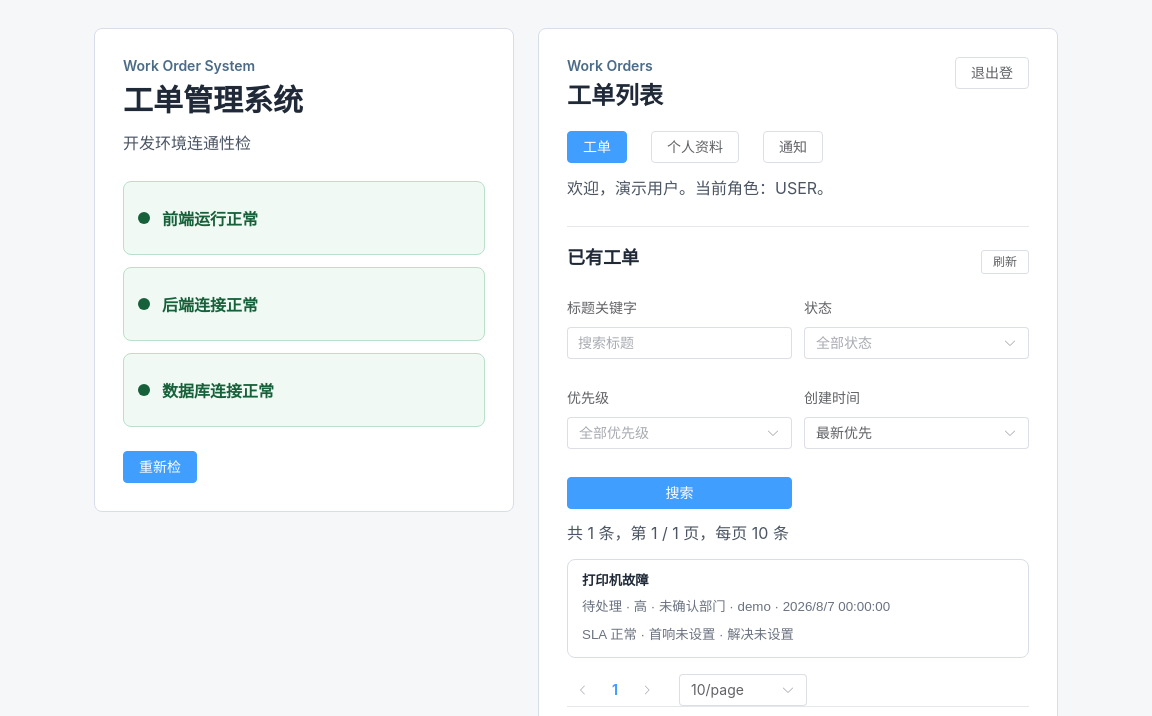
Test: App › cancels a pending work order through the dedicated endpoint
The image size is (1152, 716).
Click the button with class "work-order-item": (798, 608) [567, 559, 1029, 658]
(page scrolled)
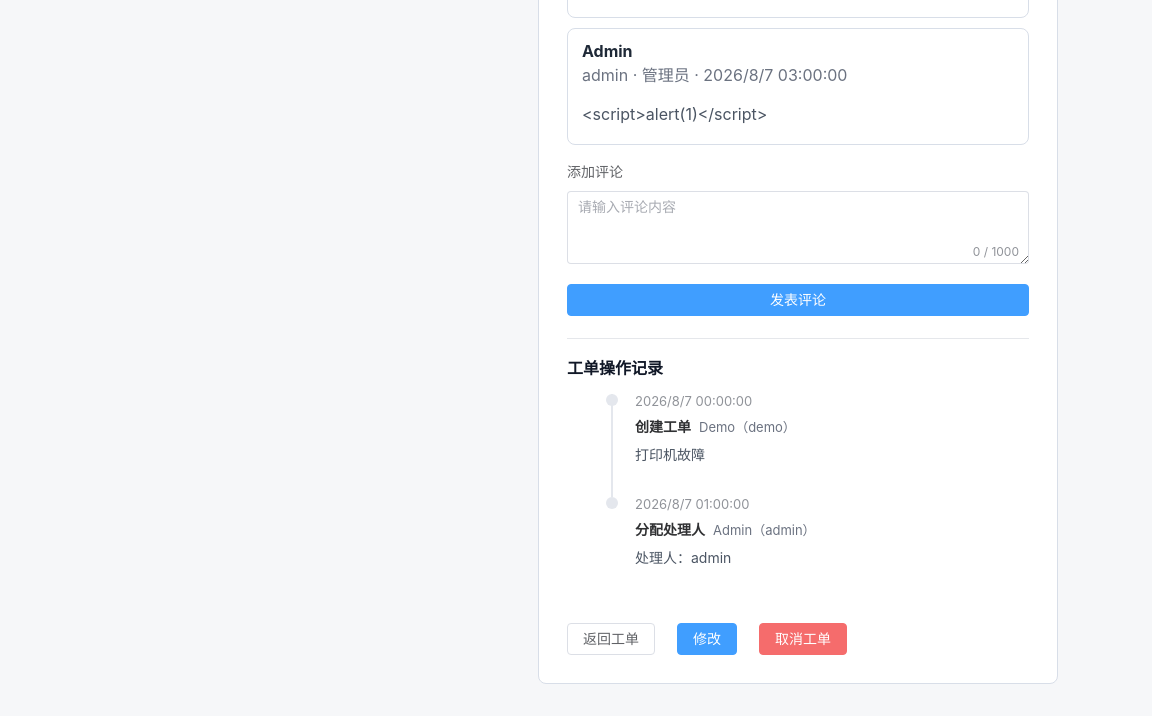
Click the button "取消工单": (803, 638) [759, 622, 847, 654]
(page scrolled)
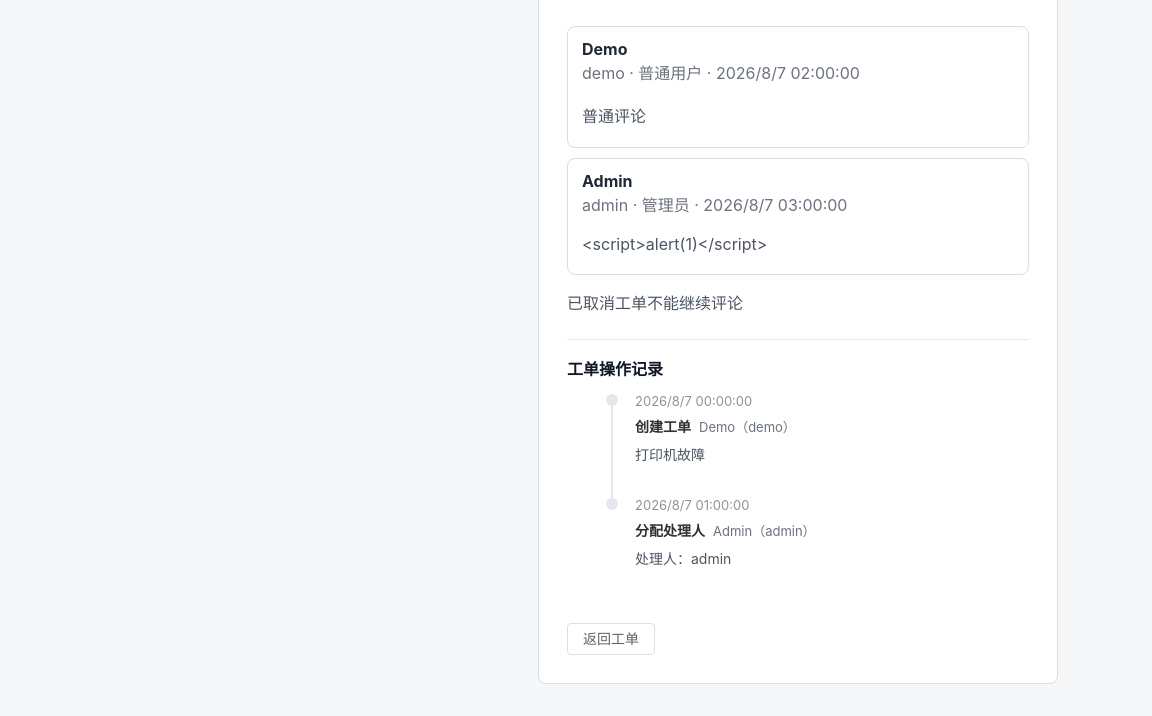
Expected: the button "修改" no longer shows "修改"
